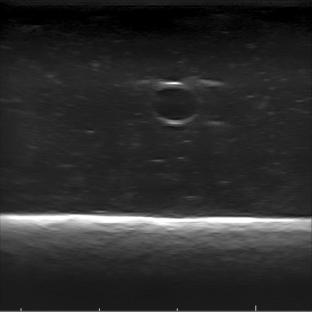vessel: (148, 80, 199, 126)
